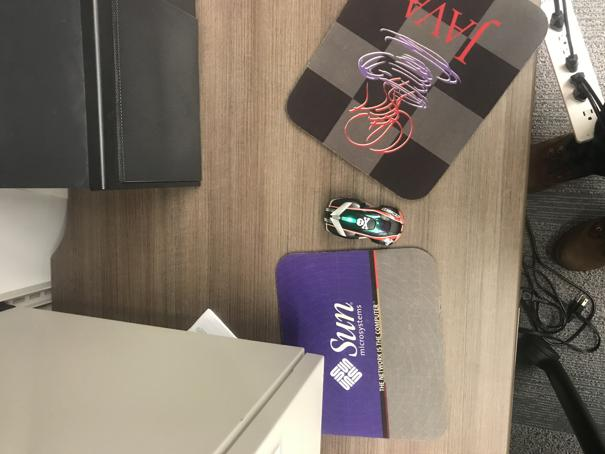Skull: (321, 197, 407, 246)
